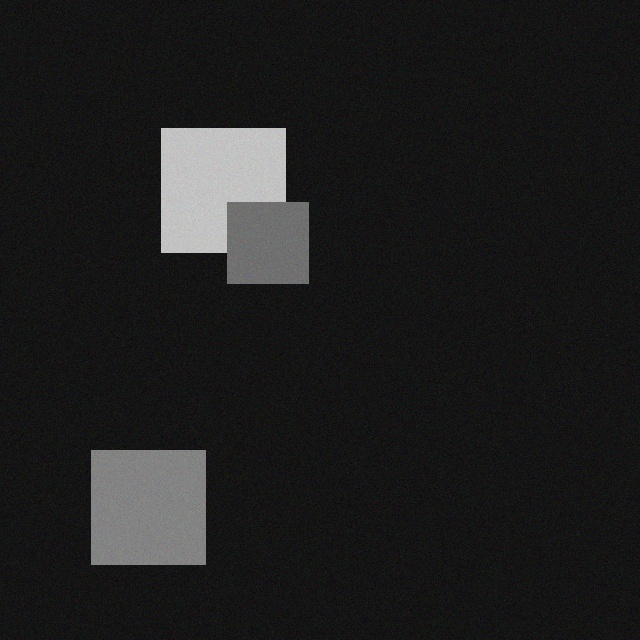square: (150, 123, 274, 247), (80, 445, 194, 559), (216, 197, 297, 278)
